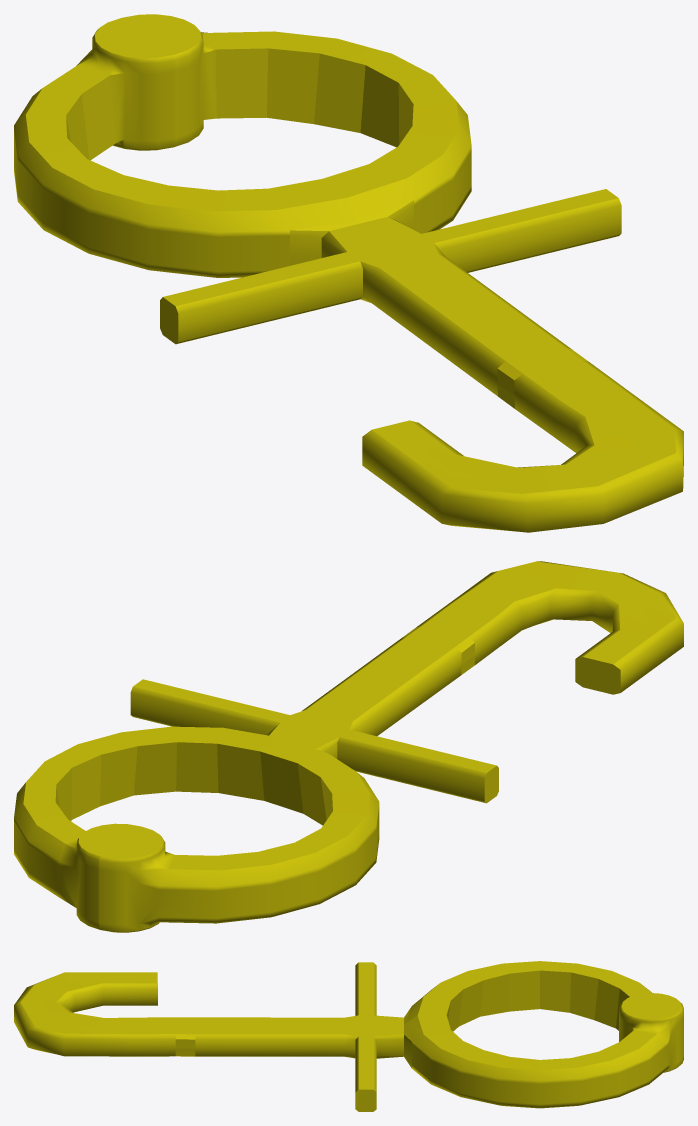
File: JohnKey.fbx
3 views of the same model, one above another, from view 1: azimuth 30°, elevation 25°; view 2: azimuth 150°, elevation 25°; view 3: azimuth 270°, elevation 25° (orthographic). The views are drawn at different scales.
Visible parts, largest first — view 1: princekey:pCube6; view 2: princekey:pCube6; view 3: princekey:pCube6.
Part boxes in pixels (left/top/right/bottom): princekey:pCube6: left=14, top=14, right=683, bottom=532; princekey:pCube6: left=14, top=561, right=683, bottom=932; princekey:pCube6: left=14, top=961, right=683, bottom=1111.
Bounding box in the file's own units: 0.2188 × 0.0436 × 0.4872.
1 material, 1 textured.
